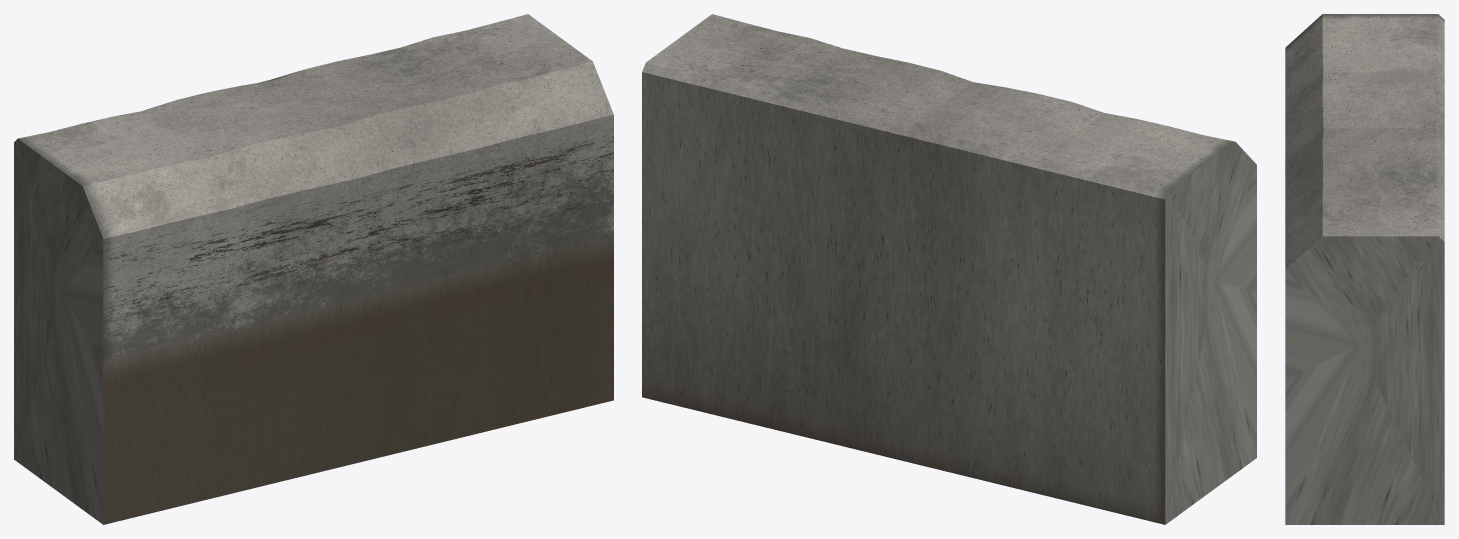
File: curb_half_web.glb
The picture shows the model from 3 angles, left to right: view 1: azimuth 30°, elevation 25°; view 2: azimuth 150°, elevation 25°; view 3: azimuth 270°, elevation 25°; orthographic projection. The views are drawn at different scales.
Parts seen in each view (by area): view 1: curb_half_Mesh; view 2: curb_half_Mesh; view 3: curb_half_Mesh.
Boxes of the visible parts, x1,y1,x2,y2 form: curb_half_Mesh: [14, 14, 613, 524]; curb_half_Mesh: [642, 14, 1256, 524]; curb_half_Mesh: [1285, 14, 1444, 524].
Bounding box in the file's own units: 0.495 × 0.3 × 0.15.
Materials: 1 (1 with a texture image).
